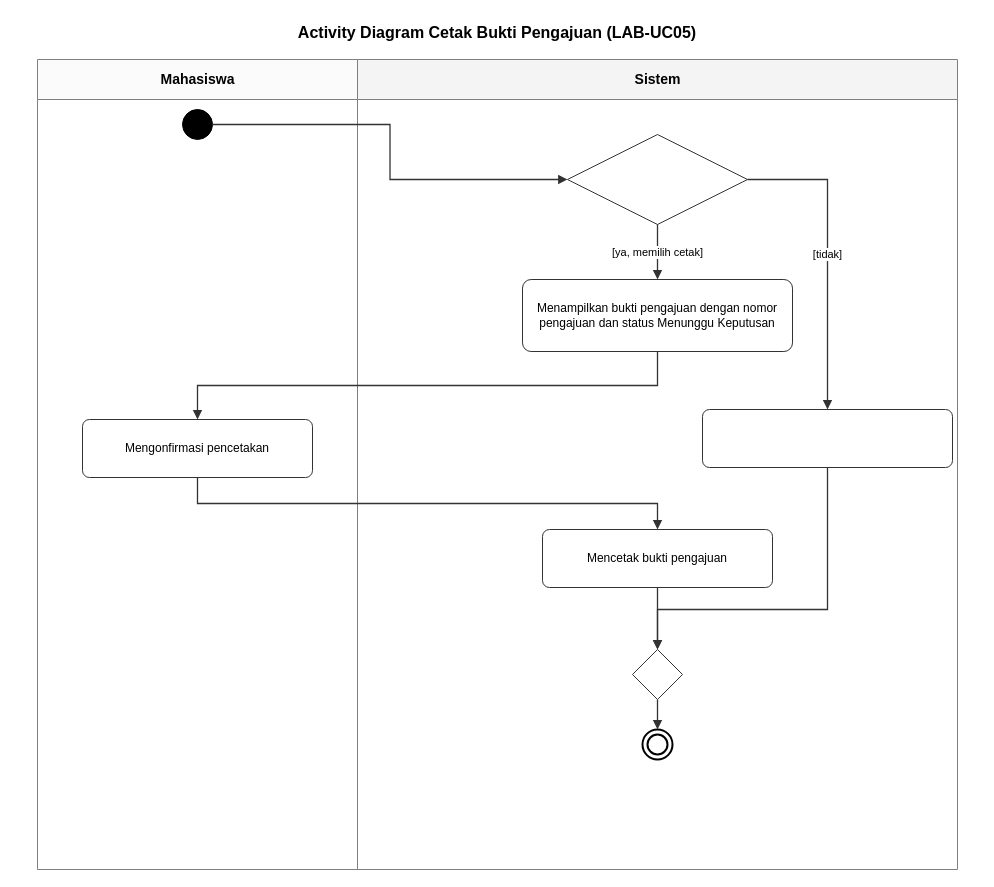
Some shapes in this 994 by 887 pixel diagram are drawn without their labels. The centre of each missing label's shape, as x and y in pixels:
"Mahasiswa memilih cetak bukti?" goes at (x=657, y=179).
"Menutup konfirmasi tanpa mencetak bukti dan pengajuan tetap tersimpan" goes at (x=827, y=438).
